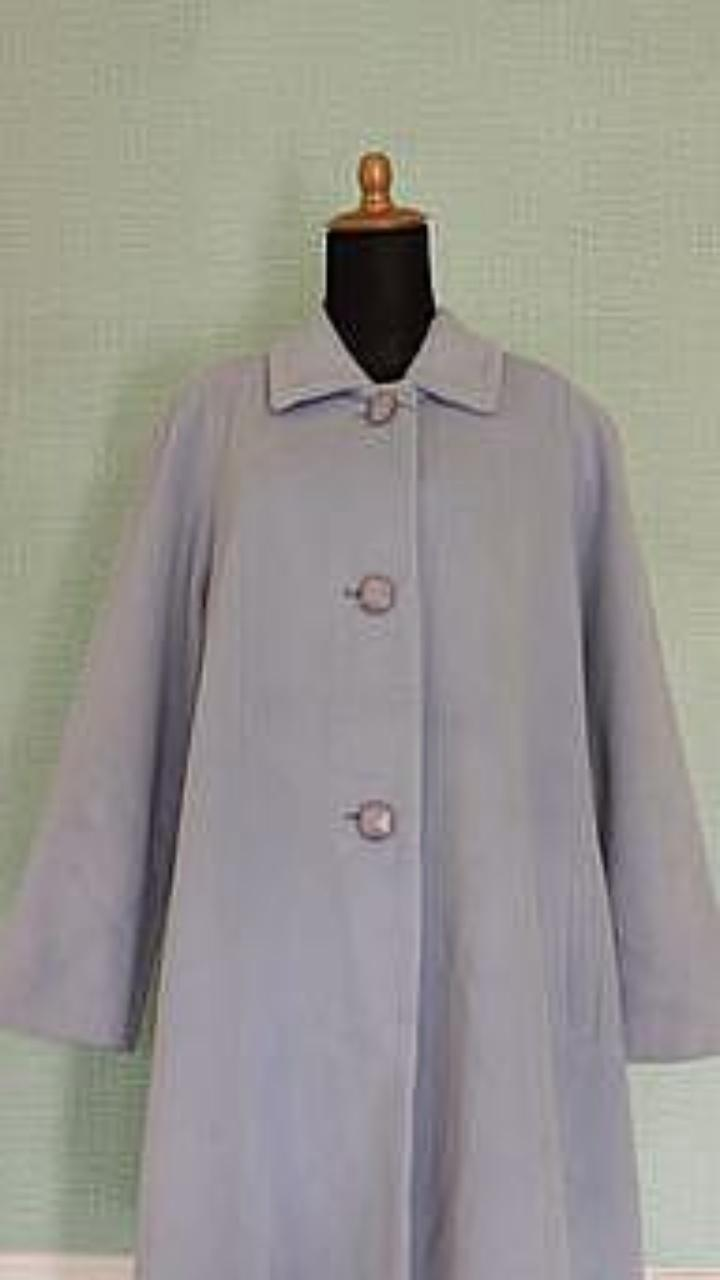Coat: (0, 305, 719, 1279)
